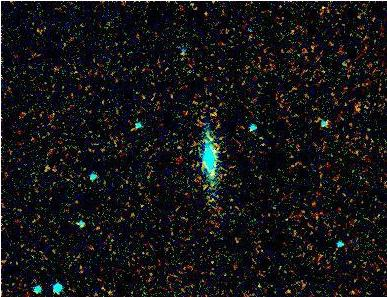star: (197, 155, 227, 185)
